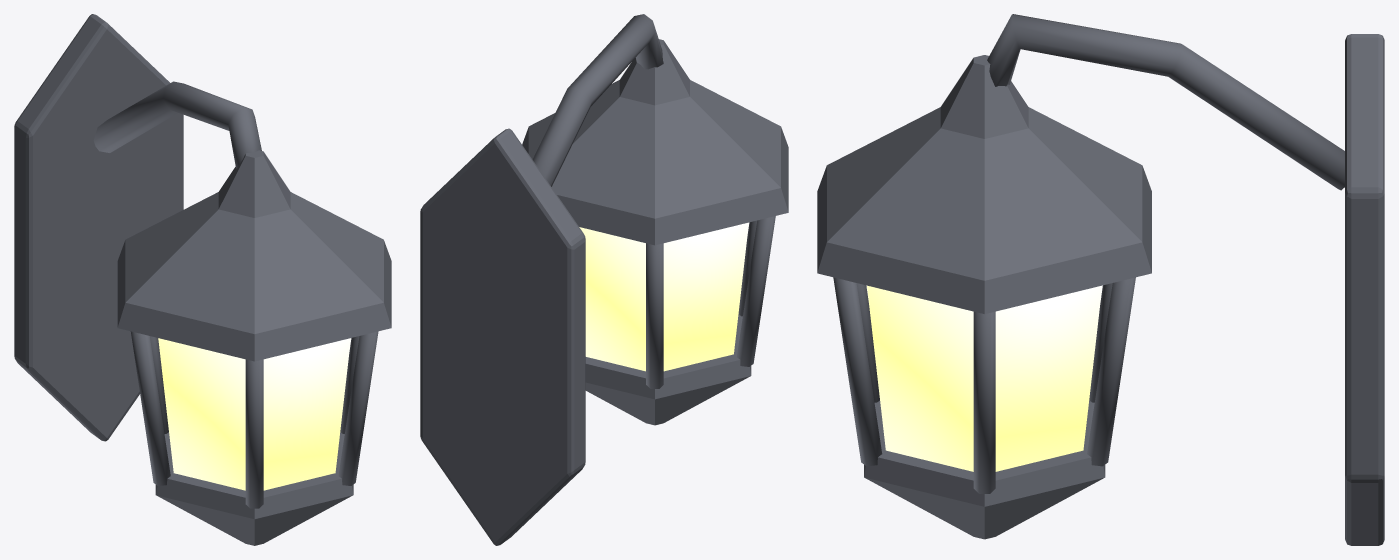
File: tavern_lantern.glb
3 views of the same model, side by side, from view 1: azimuth 30°, elevation 25°; view 2: azimuth 150°, elevation 25°; view 3: azimuth 270°, elevation 25° (orthographic). The views are drawn at different scales.
Visible parts, largest first — view 1: SconceWallPlate, SconceRoof, SconceGlass, SconceBot, SconceArm, SconceBar_3, SconceBar_5, SconceBar_4, SconceBar_0, SconceBar_2; view 2: SconceWallPlate, SconceRoof, SconceGlass, SconceBot, SconceArm, SconceBar_3, SconceBar_2, SconceBar_4; view 3: SconceRoof, SconceGlass, SconceWallPlate, SconceArm, SconceBot, SconceBar_1, SconceBar_5, SconceBar_0, SconceBar_2, SconceBar_4.
Part boxes in pixels (x1,y1,x2,y2): SconceWallPlate: (14, 14, 183, 441); SconceRoof: (117, 150, 391, 361); SconceGlass: (158, 338, 350, 490); SconceBot: (155, 432, 353, 545); SconceArm: (93, 81, 261, 168); SconceBar_3: (130, 331, 170, 485); SconceBar_5: (338, 331, 378, 485); SconceBar_4: (245, 359, 263, 508); SconceBar_0: (340, 336, 359, 433); SconceBar_2: (150, 336, 168, 433); SconceWallPlate: (420, 128, 585, 545); SconceRoof: (522, 39, 788, 245); SconceGlass: (579, 222, 748, 371); SconceBot: (585, 314, 751, 425); SconceArm: (532, 14, 663, 186); SconceBar_3: (737, 216, 775, 366); SconceBar_2: (646, 243, 663, 388); SconceBar_4: (738, 220, 757, 316); SconceRoof: (817, 55, 1151, 314); SconceGlass: (867, 285, 1102, 471); SconceWallPlate: (1345, 34, 1384, 545); SconceArm: (987, 14, 1344, 190); SconceBot: (864, 400, 1105, 539); SconceBar_1: (1087, 277, 1135, 466); SconceBar_5: (833, 277, 882, 466); SconceBar_0: (973, 311, 995, 493); SconceBar_2: (1089, 283, 1112, 402); SconceBar_4: (856, 283, 879, 402).
Size of the model in its own units: 0.244 by 0.3699 by 0.3582.
